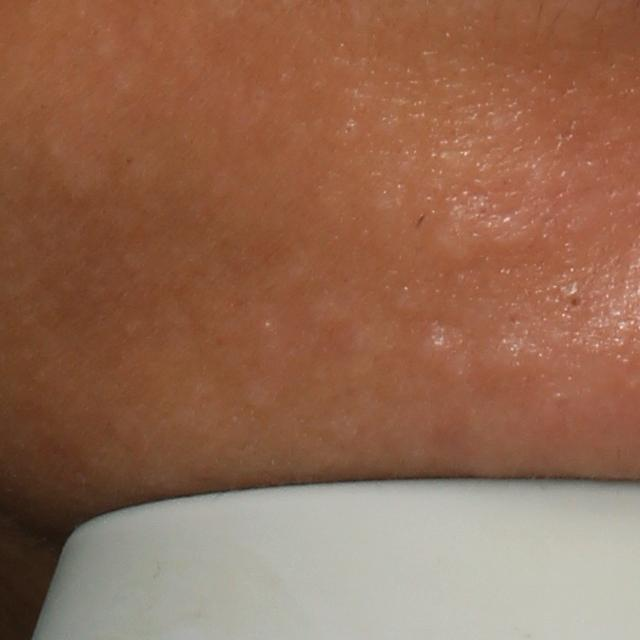comedo: (420, 328, 455, 365), (560, 286, 588, 315)
hypertrophic_scar: (433, 194, 541, 267)
